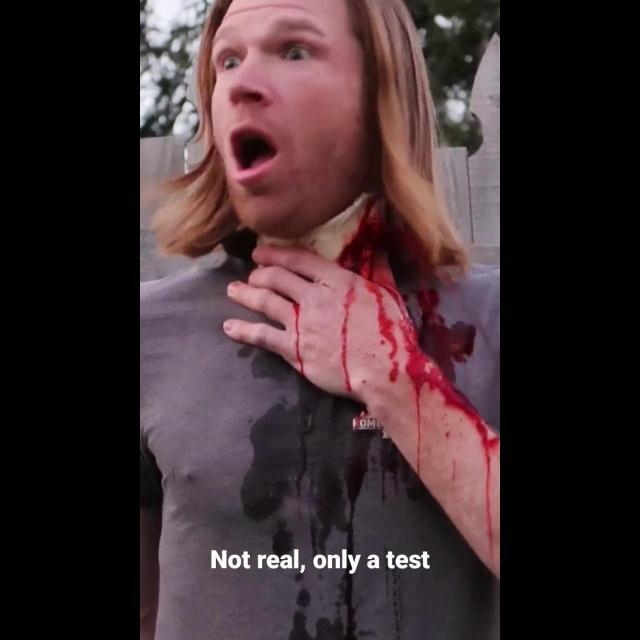blood: (373, 286, 500, 578), (406, 289, 474, 383), (338, 196, 396, 291), (341, 285, 354, 393), (293, 302, 306, 377)
